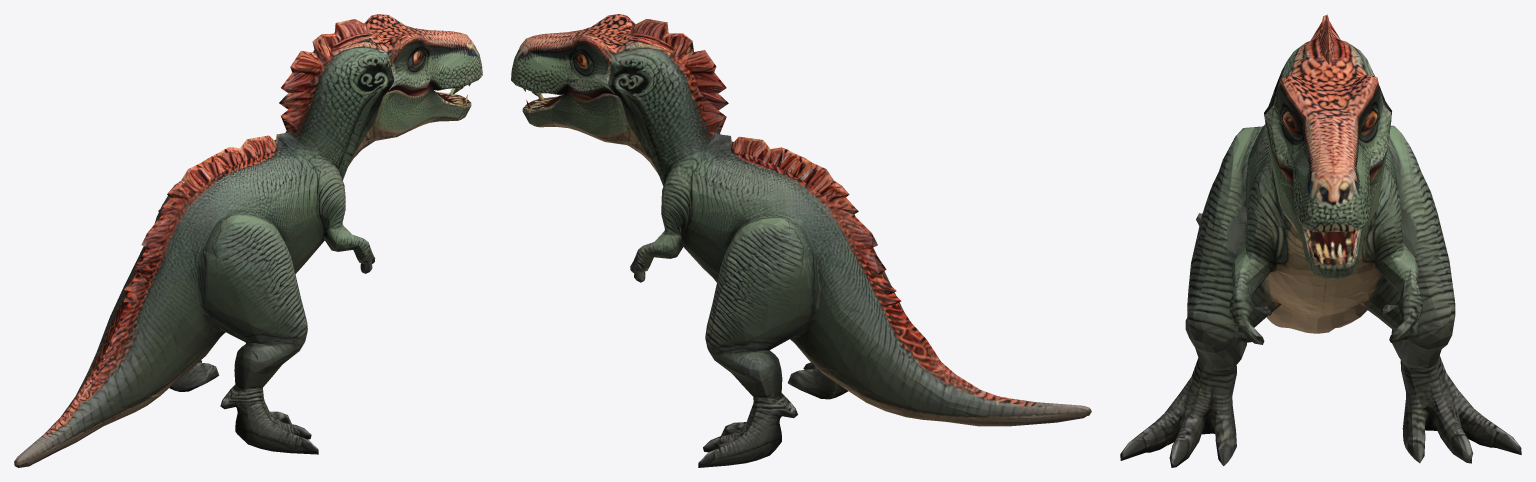
Rendered from trex_texture.obj.
3 renders of one model, left to right at view 1: azimuth 30°, elevation 25°; view 2: azimuth 150°, elevation 25°; view 3: azimuth 270°, elevation 25°, orthographic. The views are drawn at different scales.
Visible parts, largest first — view 1: trex_texture; view 2: trex_texture; view 3: trex_texture.
Part boxes in pixels (x1=…): trex_texture: x1=14, y1=14, x2=482, y2=467; trex_texture: x1=511, y1=14, x2=1091, y2=467; trex_texture: x1=1120, y1=14, x2=1521, y2=467.
Bounding box in the file's own units: 0.9419 × 0.6366 × 0.4504.
Materials: 1 (1 with a texture image).
